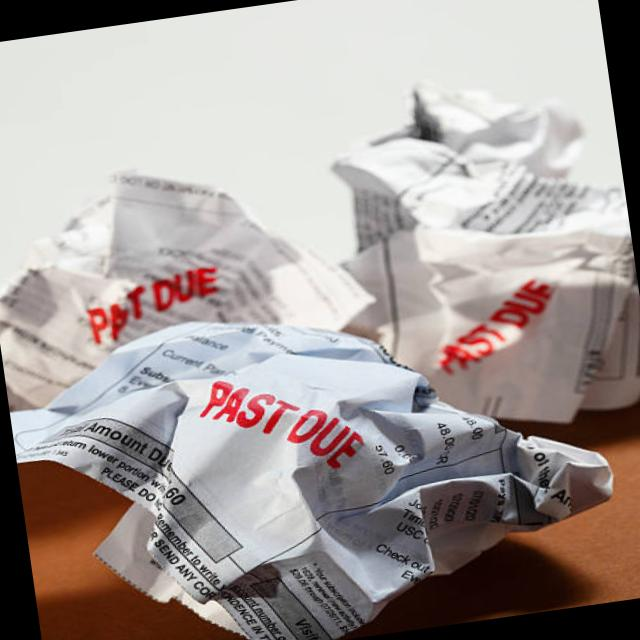electronic: (1, 266, 631, 640), (298, 43, 640, 453), (0, 135, 385, 413)
